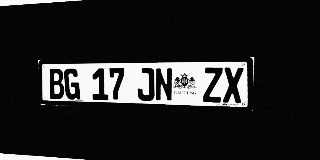1: (91, 68, 108, 100)
7: (108, 68, 125, 101)
B: (48, 69, 65, 99)
G: (64, 68, 80, 100)
J: (137, 68, 154, 101)
N: (155, 68, 173, 102)
X: (223, 67, 243, 103)
Z: (203, 67, 223, 103)
